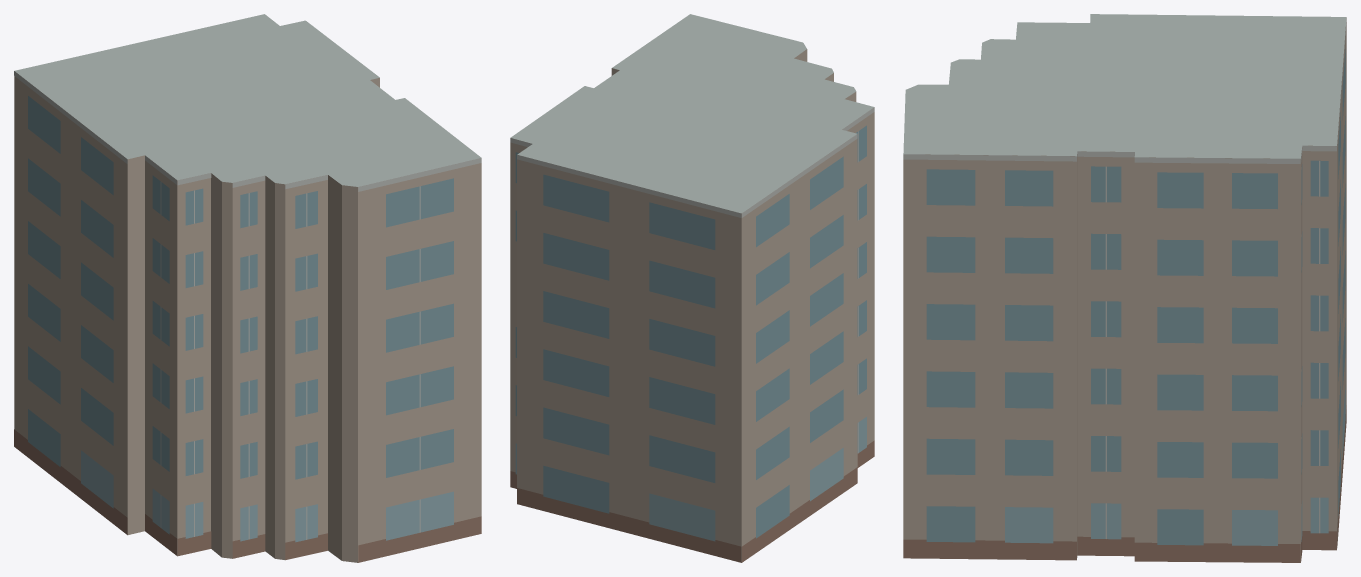
Rendered from survey-upis-32659369.glb.
3 renders of one model, left to right at view 1: azimuth 30°, elevation 25°; view 2: azimuth 150°, elevation 25°; view 3: azimuth 270°, elevation 25°, orthographic. The views are drawn at different scales.
Parts seen in each view (by area): view 1: survey-upis-32659369.tmp; view 2: survey-upis-32659369.tmp; view 3: survey-upis-32659369.tmp.
Boxes of the visible parts, <box> form: survey-upis-32659369.tmp: <box>14,14,481,562</box>; survey-upis-32659369.tmp: <box>510,14,874,562</box>; survey-upis-32659369.tmp: <box>903,14,1346,562</box>.
Size of the model in its own units: 14.06 by 18.3 by 18.19.
